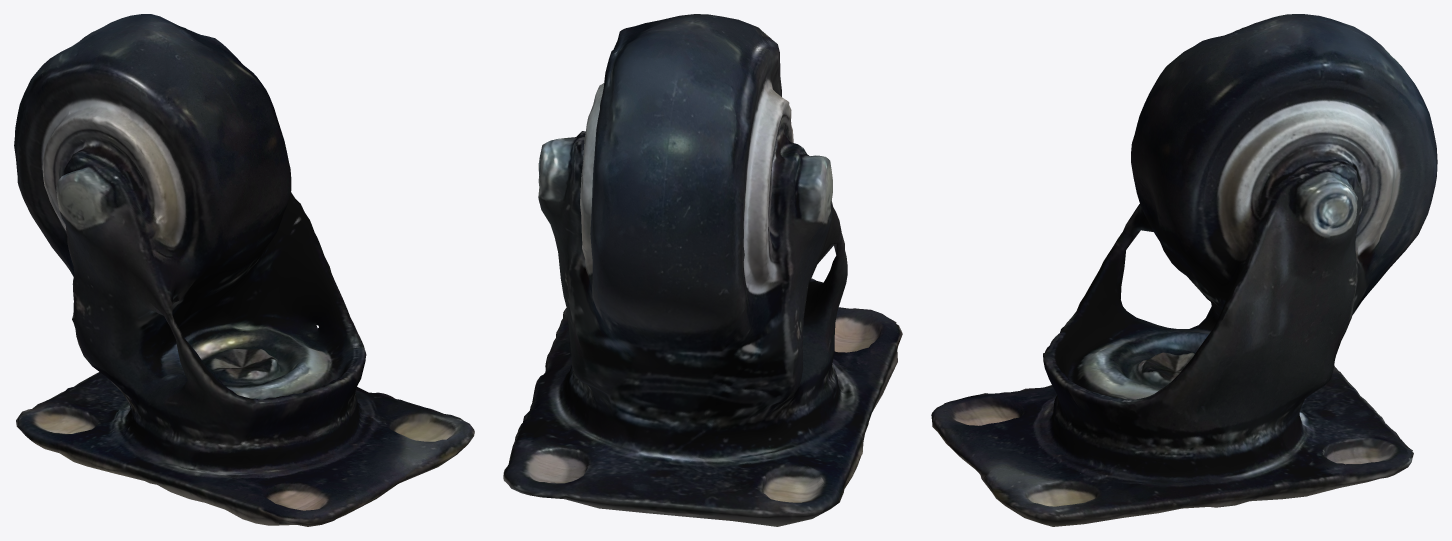
The model's file is wheel.obj.
3 views of the same model, side by side, from view 1: azimuth 30°, elevation 25°; view 2: azimuth 150°, elevation 25°; view 3: azimuth 270°, elevation 25° (orthographic). The views are drawn at different scales.
Parts seen in each view (by area): view 1: mesh_0; view 2: mesh_0; view 3: mesh_0.
Part boxes in pixels (<box>): mesh_0: <box>14,14,474,526</box>; mesh_0: <box>503,14,902,526</box>; mesh_0: <box>931,14,1437,526</box>.
Bounding box in the file's own units: 0.0652 × 0.0751 × 0.0808.
1 material, 1 textured.
